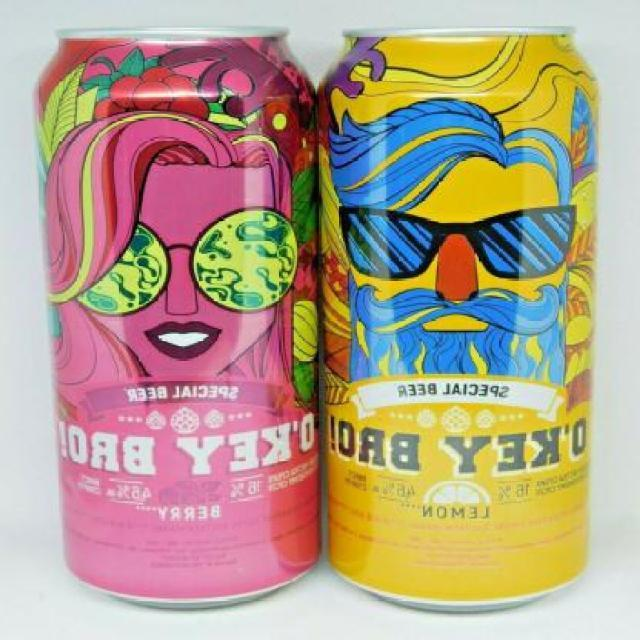can: (314, 12, 622, 617), (41, 24, 314, 624)
